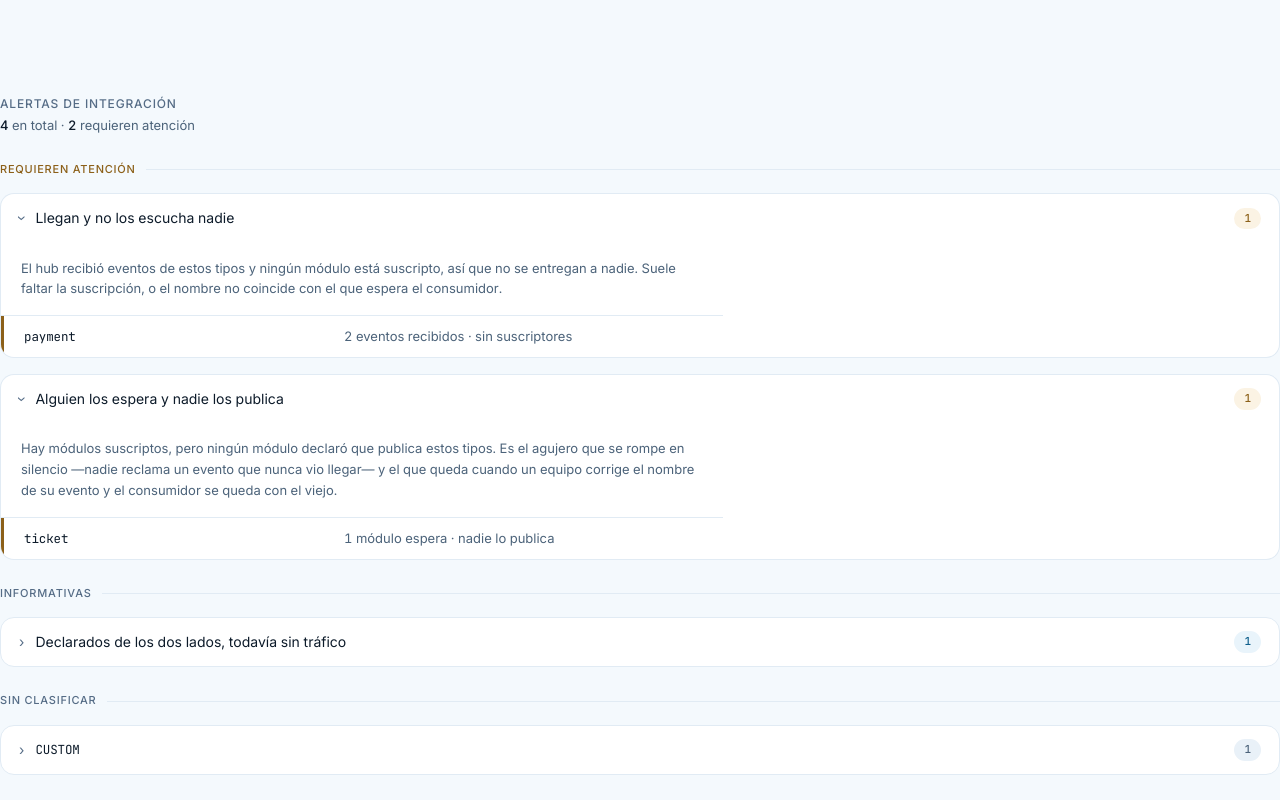
Scenario: Alertas de integración › T-017: muestra las etiquetas de severidad una vez y permite consultar cada grupo
Expected: the number of headings "Requieren atención" is 1, [0,162,136,176]
Expected: the number of headings "Informativas" is 1, [0,586,92,600]
Click the button "› CUSTOM 1": (58, 750) [0,725,1279,775]
(page scrolled)
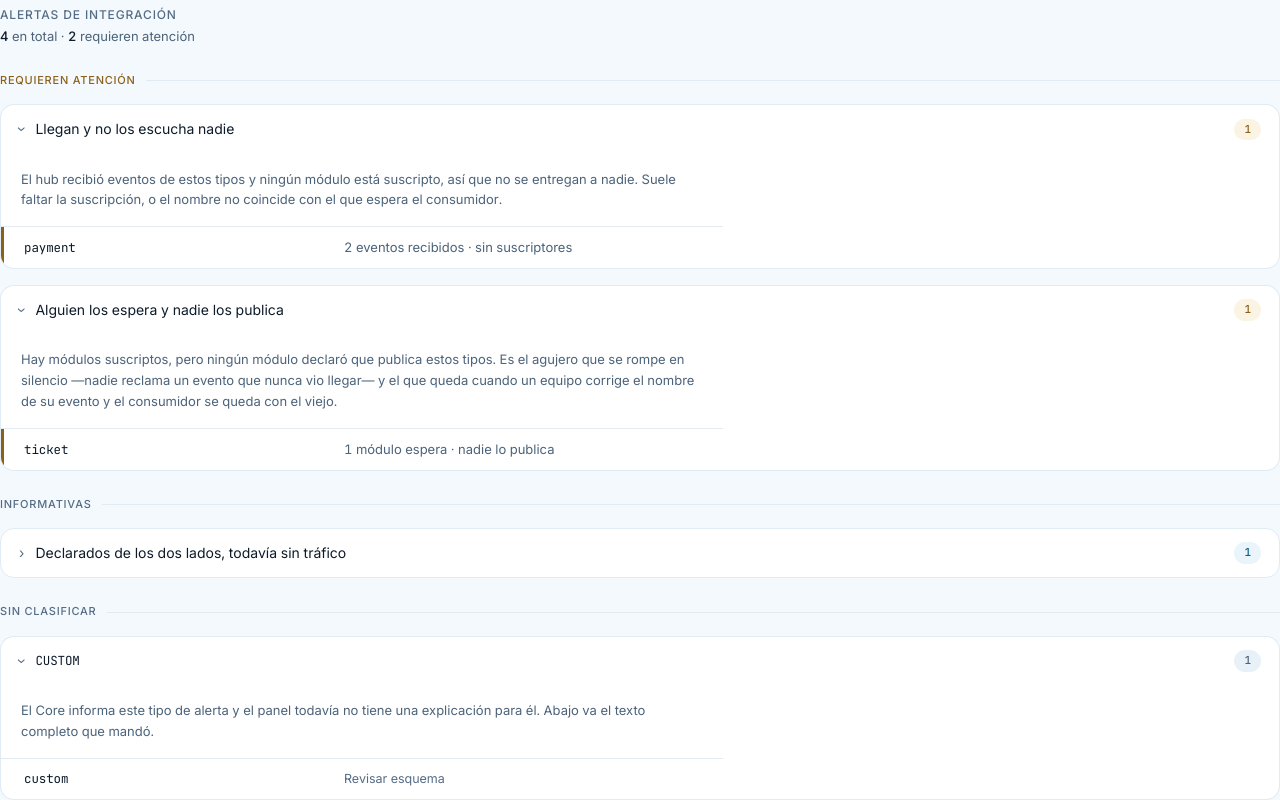
Expected: the text "Revisar esquema" is shown, [344,771,445,786]
